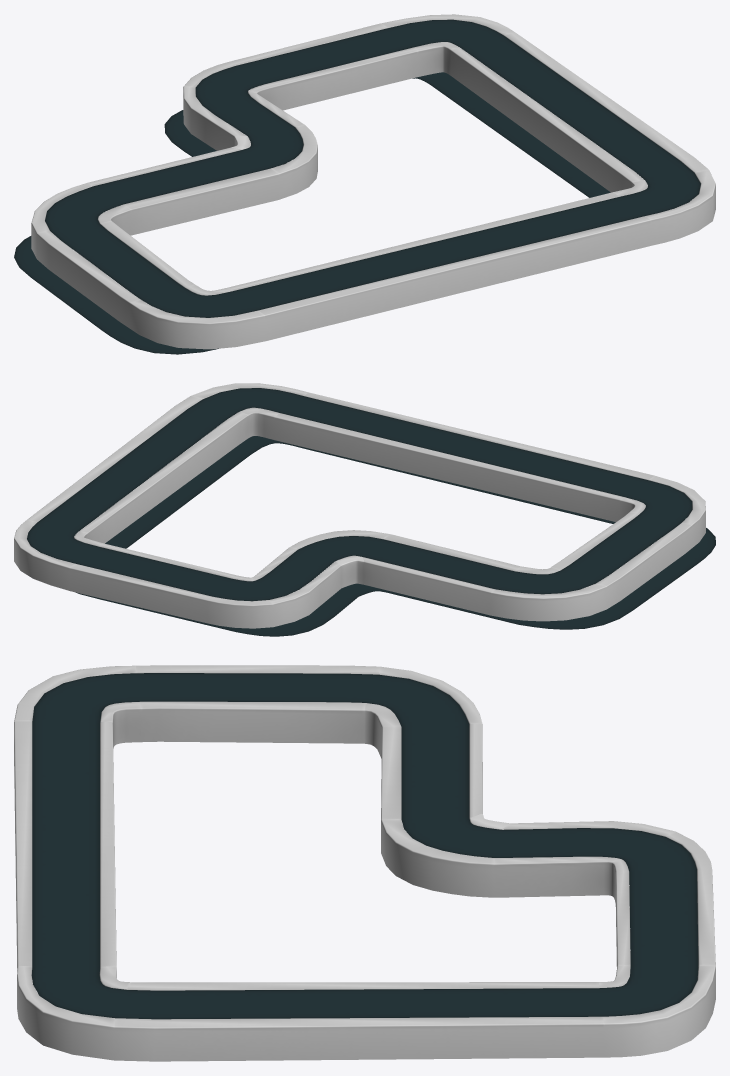
The model's file is belt_08.fbx.
The picture shows the model from 3 angles, top to bottom: view 1: azimuth 30°, elevation 25°; view 2: azimuth 150°, elevation 25°; view 3: azimuth 270°, elevation 25°; orthographic projection. The views are drawn at different scales.
Parts seen in each view (by area): view 1: belt_9_side, belt_9, belt_9_shadow; view 2: belt_9_side, belt_9, belt_9_shadow; view 3: belt_9_side, belt_9.
Boxes of the visible parts, bbox=[...] form: belt_9_side: bbox=[31, 14, 715, 349]; belt_9: bbox=[45, 19, 700, 317]; belt_9_shadow: bbox=[14, 72, 610, 354]; belt_9_side: bbox=[14, 383, 705, 628]; belt_9: bbox=[27, 388, 692, 601]; belt_9_shadow: bbox=[76, 436, 715, 636]; belt_9_side: bbox=[14, 665, 715, 1061]; belt_9: bbox=[31, 673, 698, 1019].
Bounding box in the file's own units: 136 × 6.94 × 108.
Materials: 1 (1 with a texture image).
